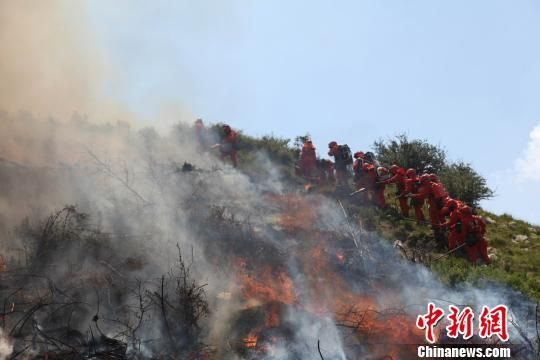fire: (237, 206, 417, 348)
smoke: (1, 2, 186, 360), (183, 155, 322, 359), (324, 273, 540, 360)
